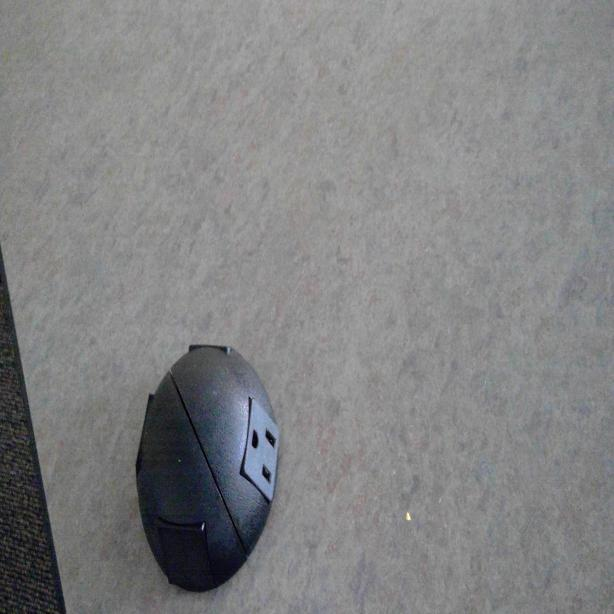typeb: (243, 402, 282, 490)
